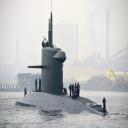submarine: (15, 1, 111, 117)
